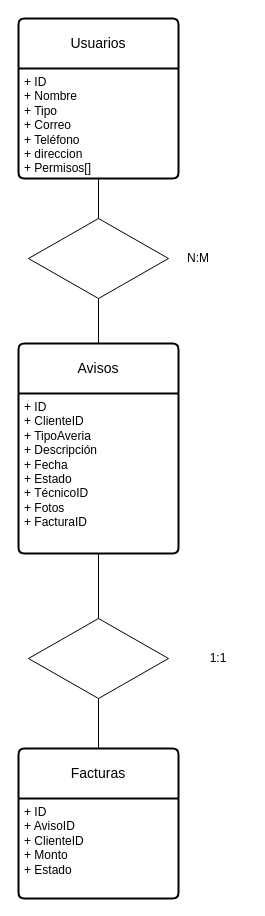
The diagram is 265 pixels wide and 916 high, and some of its shapes have lost their labels. The shapes that lost their labels are listed below. From the top down, each one's centre as x and y in pixels, then its label:
At (x=98, y=258): "Realiza".
At (x=98, y=658): "Genera".
